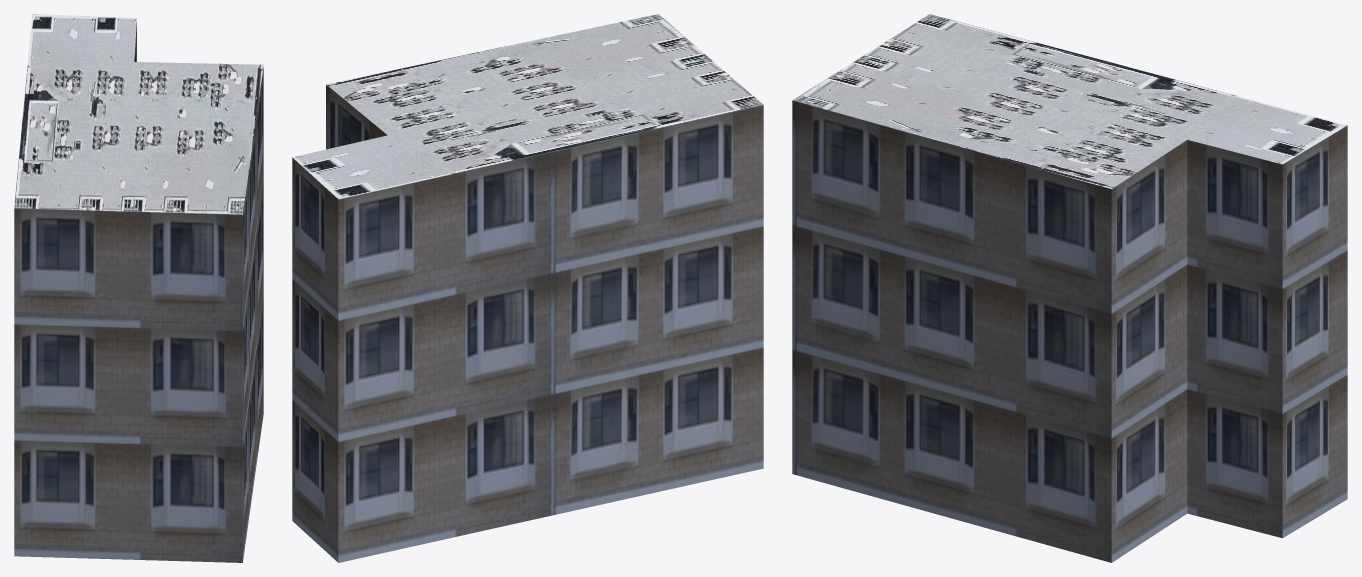
The model's file is ResTex__488.fbx.
The picture shows the model from 3 angles, left to right: view 1: azimuth 30°, elevation 25°; view 2: azimuth 150°, elevation 25°; view 3: azimuth 270°, elevation 25°; orthographic projection. The views are drawn at different scales.
Parts seen in each view (by area): view 1: CityEngineMaterial_3_m, CityEngineMaterial_4_m; view 2: CityEngineMaterial_3_m, CityEngineMaterial_4_m; view 3: CityEngineMaterial_3_m, CityEngineMaterial_4_m.
Boxes of the visible parts, x1=… form: CityEngineMaterial_3_m: x1=14, y1=22, x2=263, y2=562; CityEngineMaterial_4_m: x1=14, y1=14, x2=263, y2=214; CityEngineMaterial_3_m: x1=292, y1=84, x2=763, y2=562; CityEngineMaterial_4_m: x1=292, y1=14, x2=763, y2=199; CityEngineMaterial_3_m: x1=792, y1=100, x2=1347, y2=562; CityEngineMaterial_4_m: x1=793, y1=14, x2=1346, y2=188.
Bounding box in the file's own units: 9.04 × 9 × 12.11.
Materials: 2 (2 with a texture image).
